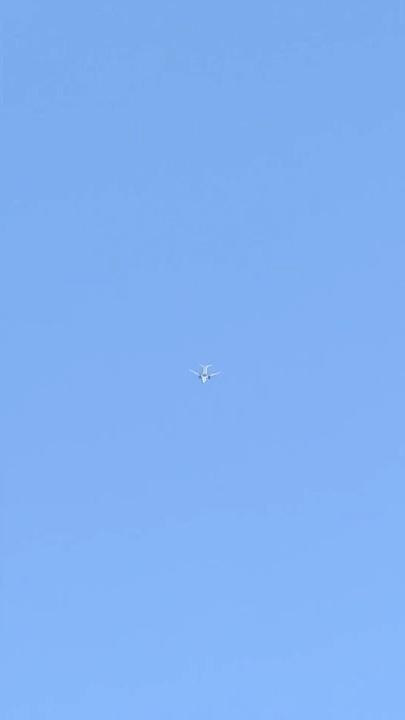Plane: (185, 352, 223, 394)
